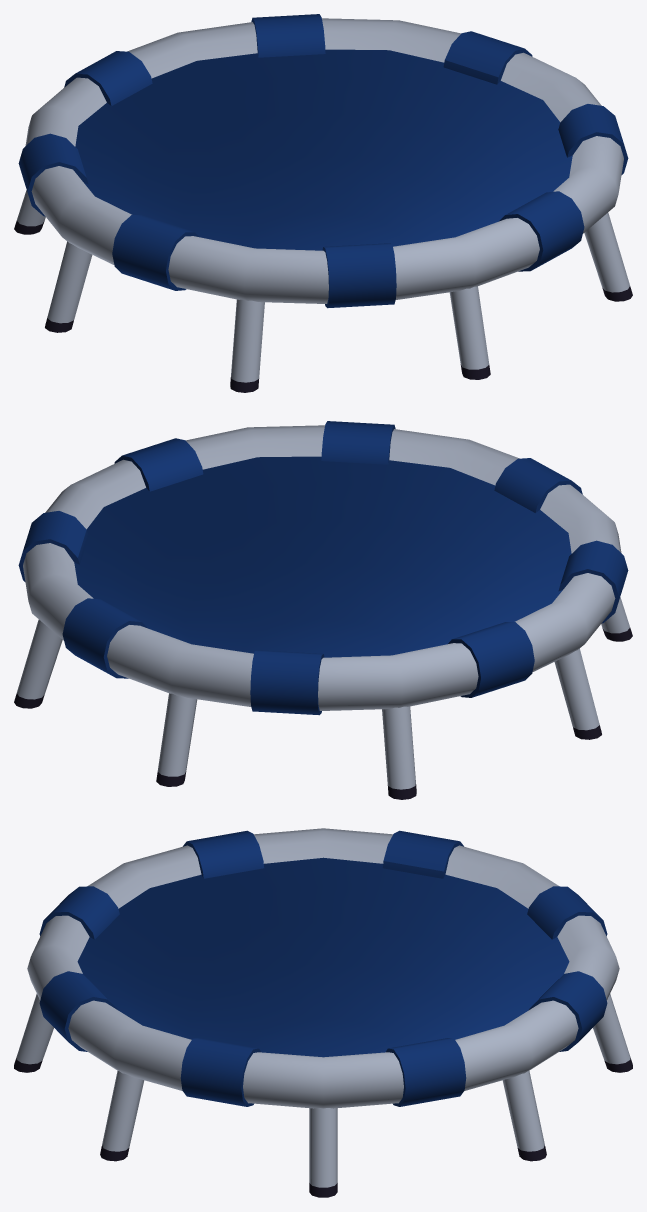
Rendered from Trampoline.fbx.
3 views of the same model, one above another, from view 1: azimuth 30°, elevation 25°; view 2: azimuth 150°, elevation 25°; view 3: azimuth 270°, elevation 25° (orthographic). The views are drawn at different scales.
Parts seen in each view (by area): view 1: Trampoline; view 2: Trampoline; view 3: Trampoline.
Part boxes in pixels (x1,y1,x2,y2): Trampoline: [14, 14, 632, 392]; Trampoline: [14, 421, 632, 799]; Trampoline: [14, 828, 632, 1197].
Size of the model in its own units: 2.3 by 0.5137 by 2.3.
